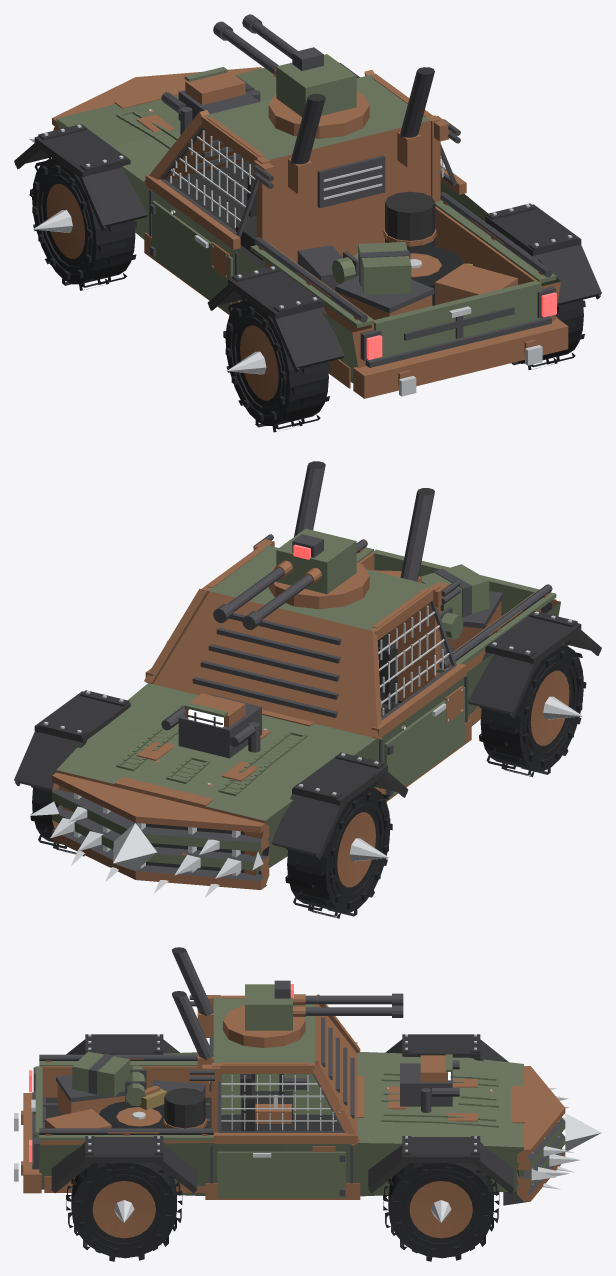
The model's file is combat_sedan.glb.
The picture shows the model from 3 angles, top to bottom: view 1: azimuth 30°, elevation 25°; view 2: azimuth 150°, elevation 25°; view 3: azimuth 270°, elevation 25°; orthographic projection. The views are drawn at different scales.
Parts seen in each view (by area): view 1: Body, Wheel_RL, Wheel_FL, Wheel_RR, Gun_Barrel_L, Gun_Barrel_R; view 2: Body, Wheel_FL, Wheel_RL, Gun_Barrel_R, Gun_Barrel_L, Wheel_FR; view 3: Body, Wheel_RR, Wheel_FR, Gun_Barrel_L, Gun_Barrel_R.
Part boxes in pixels (x1=…): Body: x1=14, y1=47, x2=601, y2=398; Wheel_RL: x1=223, y1=296, x2=330, y2=432; Wheel_FL: x1=29, y1=154, x2=136, y2=290; Wheel_RR: x1=508, y1=238, x2=585, y2=369; Gun_Barrel_L: x1=213, y1=21, x2=278, y2=77; Gun_Barrel_R: x1=242, y1=14, x2=297, y2=58; Body: x1=14, y1=461, x2=601, y2=897; Wheel_FL: x1=285, y1=782, x2=392, y2=918; Wheel_RL: x1=479, y1=640, x2=586, y2=776; Gun_Barrel_R: x1=213, y1=560, x2=292, y2=622; Gun_Barrel_L: x1=242, y1=567, x2=321, y2=629; Wheel_FR: x1=30, y1=786, x2=84, y2=856; Body: x1=14, y1=947, x2=601, y2=1205; Wheel_RR: x1=66, y1=1163, x2=182, y2=1261; Wheel_FR: x1=383, y1=1163, x2=499, y2=1261; Gun_Barrel_L: x1=293, y1=993, x2=403, y2=1005; Gun_Barrel_R: x1=293, y1=1005, x2=403, y2=1017.
Bounding box in the file's own units: 2.94 × 2.23 × 5.12.
